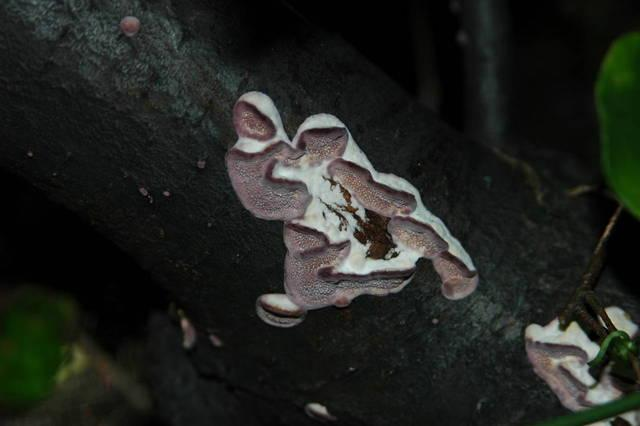poisonous_mushroom: (223, 88, 479, 328)
